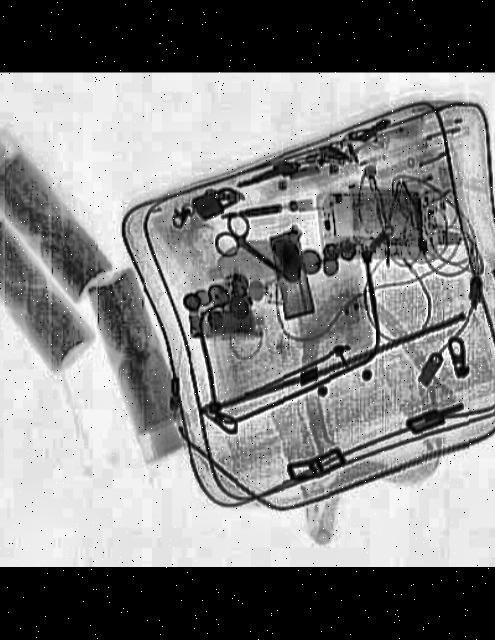Scissors: (204, 212, 308, 298)
